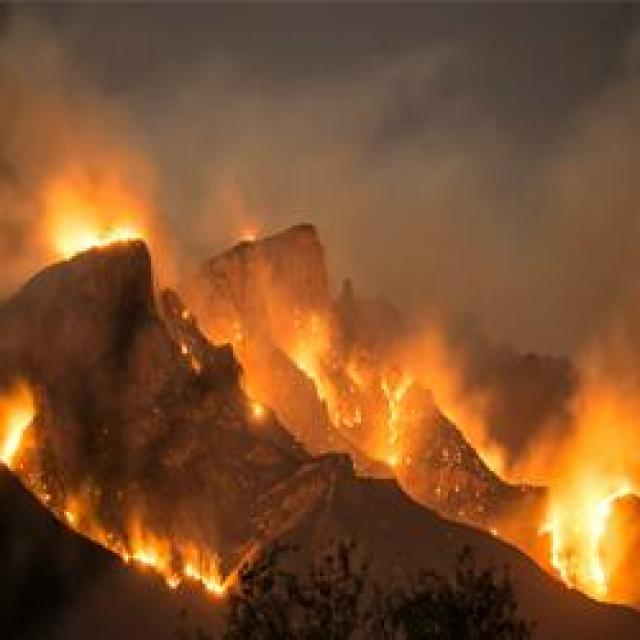fire: (2, 408, 36, 468), (72, 224, 130, 252), (584, 496, 614, 532), (548, 511, 568, 548), (586, 558, 606, 580), (139, 550, 163, 566)
smoke: (301, 59, 419, 220), (543, 83, 640, 273), (574, 295, 640, 463), (2, 0, 72, 141), (49, 111, 148, 171), (0, 174, 38, 282), (26, 164, 98, 218), (522, 423, 582, 481), (568, 450, 634, 490), (401, 324, 456, 364), (457, 392, 488, 423)
